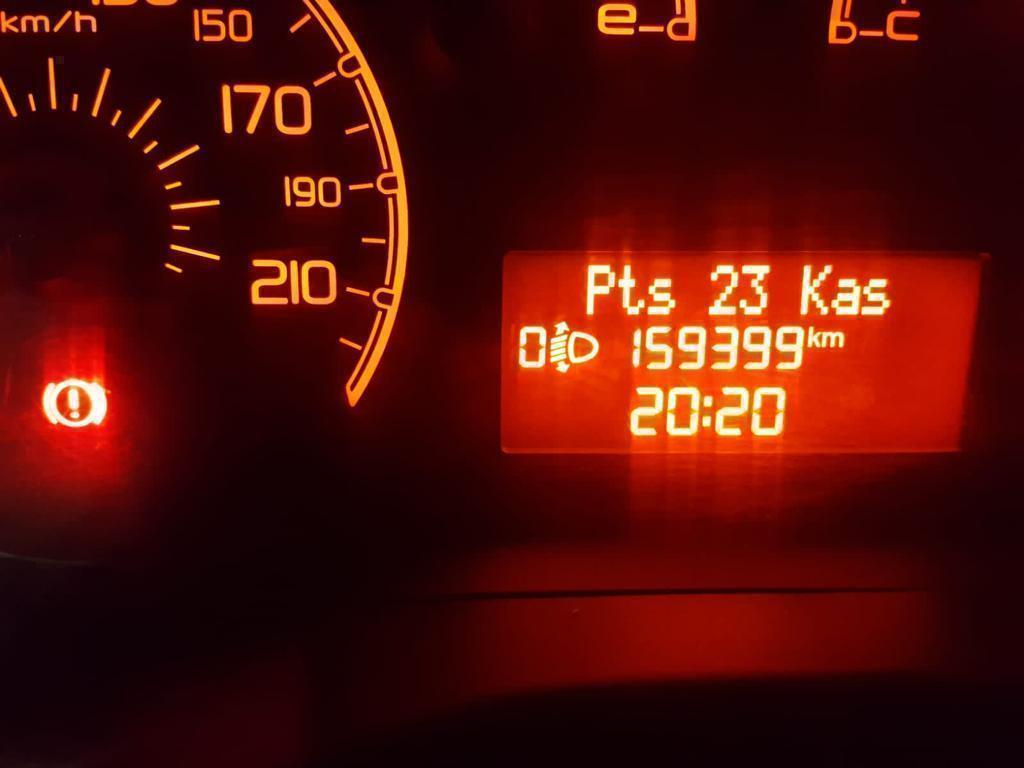0: (666, 386, 701, 437), (750, 386, 785, 436), (518, 324, 548, 369)
1: (631, 327, 643, 369)
2: (714, 385, 748, 438), (629, 385, 664, 436), (707, 264, 737, 316)
3: (739, 263, 772, 316), (710, 325, 740, 370)
5: (645, 325, 673, 370)
9: (742, 325, 773, 371), (775, 325, 805, 370), (677, 325, 706, 370)
X: (798, 262, 832, 316), (585, 263, 616, 317), (618, 263, 646, 316), (646, 276, 677, 316), (831, 277, 861, 317), (861, 277, 891, 316), (821, 331, 845, 349), (701, 394, 713, 429), (806, 325, 822, 348)
odometer: (492, 245, 996, 462)
